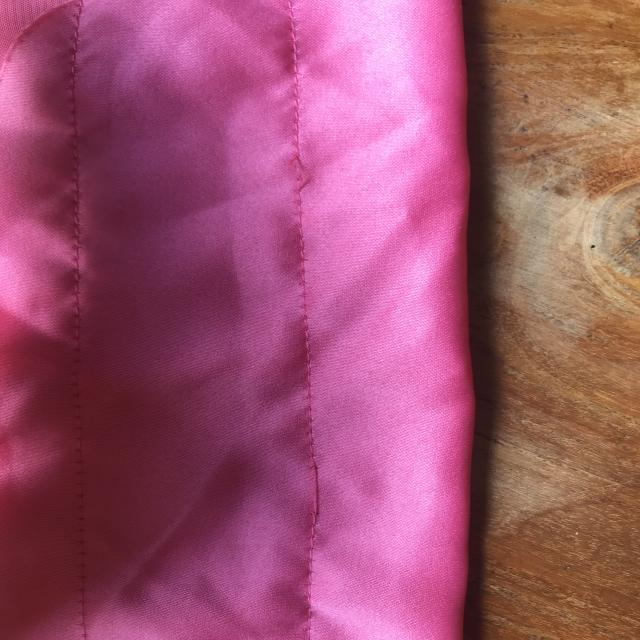broken: (278, 144, 328, 210)
good: (287, 320, 339, 404)
skip: (294, 448, 348, 544)
